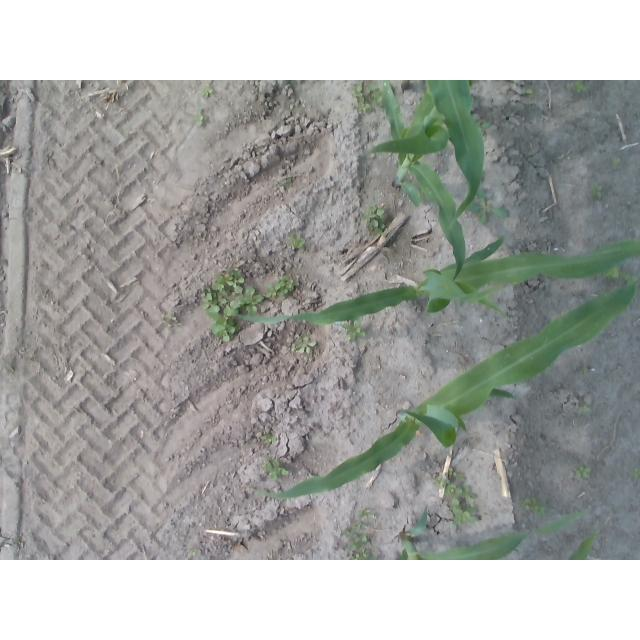Maize: (249, 282, 638, 499), (237, 235, 640, 325), (366, 81, 466, 282), (392, 505, 596, 560), (425, 80, 485, 232)
Weeds: (476, 189, 509, 223), (228, 287, 264, 314), (208, 312, 237, 343), (451, 497, 481, 526), (341, 525, 368, 551), (215, 270, 245, 290), (266, 458, 289, 481), (200, 287, 220, 312), (343, 322, 366, 341), (364, 206, 388, 222), (296, 337, 316, 356), (524, 498, 544, 515), (456, 485, 476, 499), (282, 276, 299, 292), (356, 83, 369, 102), (360, 509, 377, 522), (265, 283, 280, 297), (369, 88, 381, 105), (289, 236, 306, 248), (368, 220, 385, 231), (591, 183, 604, 197), (197, 110, 208, 126), (574, 467, 591, 477), (434, 477, 451, 487), (361, 549, 375, 560), (261, 433, 275, 444), (573, 83, 588, 93), (202, 86, 214, 98), (359, 103, 371, 114), (609, 267, 621, 278), (446, 482, 456, 494), (625, 274, 637, 283), (578, 406, 591, 414), (167, 311, 177, 321), (612, 154, 620, 166), (351, 552, 361, 561), (523, 88, 534, 96), (456, 474, 465, 483), (448, 468, 456, 477), (188, 549, 196, 558), (174, 322, 182, 331), (285, 178, 292, 186), (635, 467, 640, 477)
